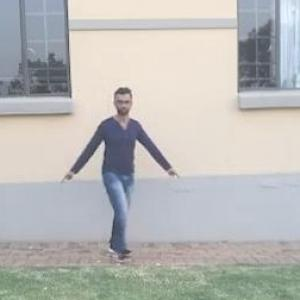land: (56, 81, 184, 275)
